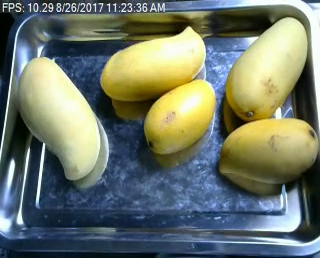Mango: (17, 57, 101, 180), (222, 15, 310, 121), (100, 27, 207, 101), (220, 118, 319, 182), (142, 79, 216, 153)
